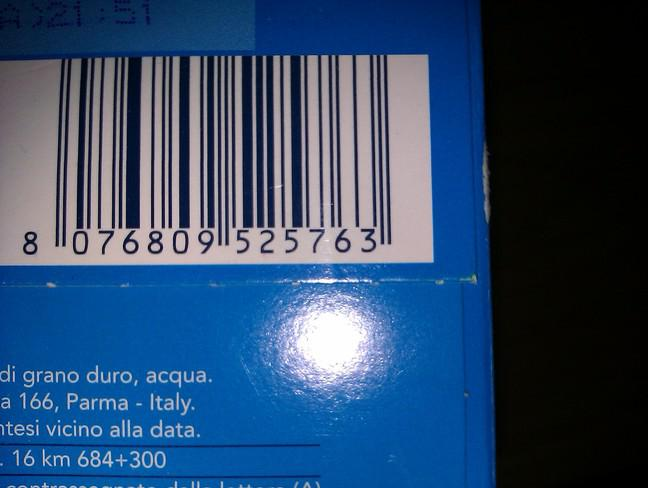Barkod: (1, 58, 431, 264)
